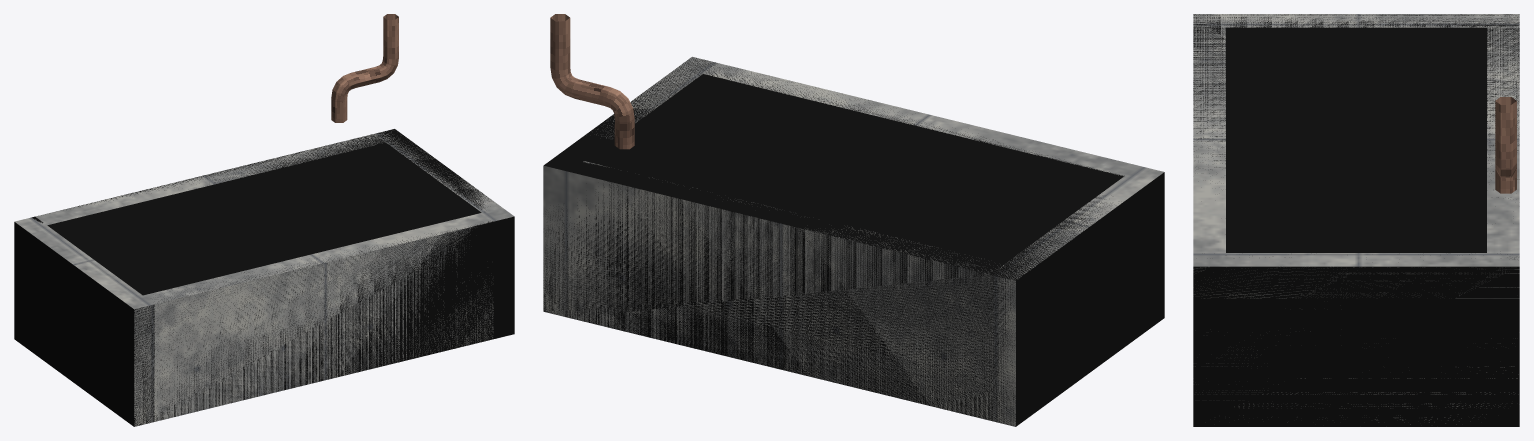
Rendered from tub.fbx.
3 views of the same model, side by side, from view 1: azimuth 30°, elevation 25°; view 2: azimuth 150°, elevation 25°; view 3: azimuth 270°, elevation 25° (orthographic). The views are drawn at different scales.
Parts seen in each view (by area): view 1: col_body, tub; view 2: col_body, tub; view 3: col_body, tub.
Part boxes in pixels (x1=…): col_body: x1=14, y1=129, x2=514, y2=426; tub: x1=15, y1=14, x2=514, y2=426; col_body: x1=543, y1=57, x2=1164, y2=426; tub: x1=543, y1=14, x2=1163, y2=426; col_body: x1=1193, y1=14, x2=1519, y2=426; tub: x1=1193, y1=14, x2=1519, y2=424.
Bounding box in the file's own units: 2.2 × 1.3 × 1.2.
4 materials, 4 textured.
